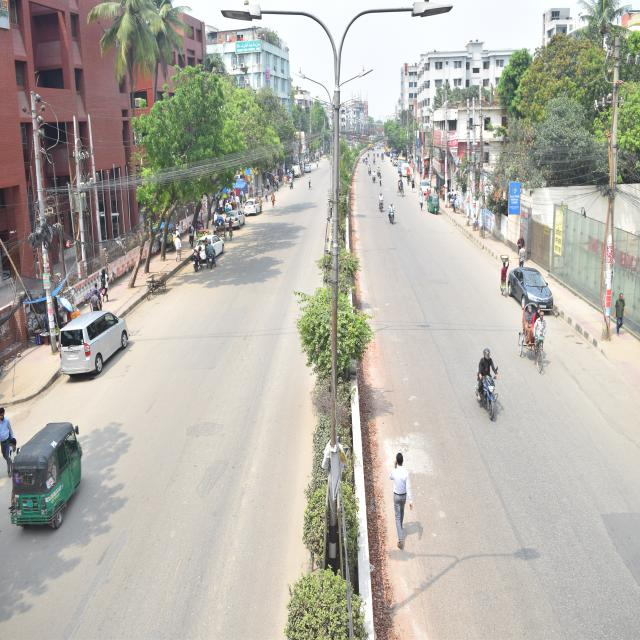car: (485, 251, 572, 351), (58, 299, 148, 376), (235, 186, 272, 227), (192, 230, 234, 264), (223, 206, 253, 247), (421, 170, 445, 211), (396, 160, 420, 188), (298, 156, 316, 183)
motorbike: (452, 333, 515, 436), (197, 234, 224, 277), (385, 202, 404, 240), (186, 240, 203, 273), (378, 197, 394, 230), (359, 159, 374, 183), (374, 154, 390, 172), (375, 161, 385, 189), (368, 170, 378, 195), (360, 156, 371, 165)
pickup-van: (294, 157, 306, 189)
